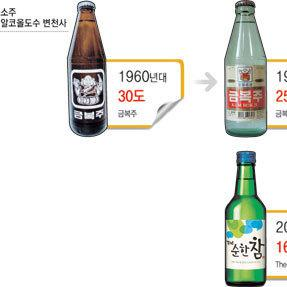soju: (221, 149, 268, 287)
